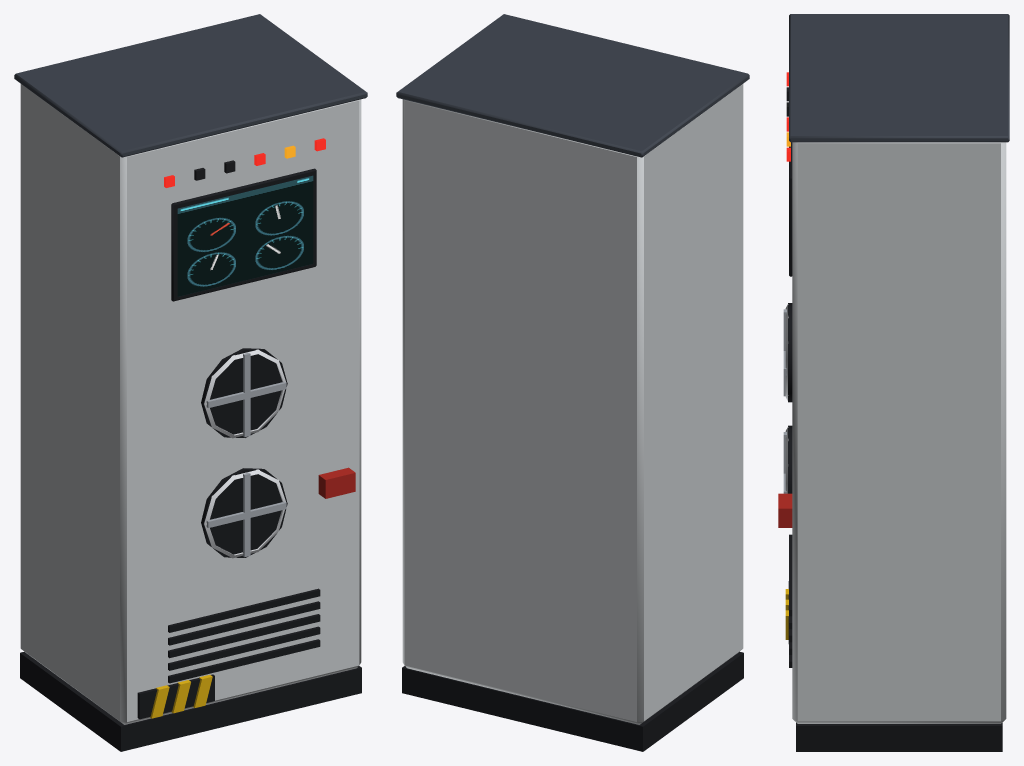
File: generator_inverter_cabinet.glb
3 views of the same model, side by side, from view 1: azimuth 30°, elevation 25°; view 2: azimuth 150°, elevation 25°; view 3: azimuth 270°, elevation 25° (orthographic). The views are drawn at different scales.
Parts seen in each view (by area): view 1: generator_inverter_cabinet; view 2: generator_inverter_cabinet; view 3: generator_inverter_cabinet.
Part boxes in pixels (x1,y1,x2,y2): generator_inverter_cabinet: (14, 14, 367, 751); generator_inverter_cabinet: (396, 14, 749, 751); generator_inverter_cabinet: (778, 14, 1009, 751).
Bounding box in the file's own units: 0.82 × 1.91 × 0.65.
11 materials, 1 textured.
